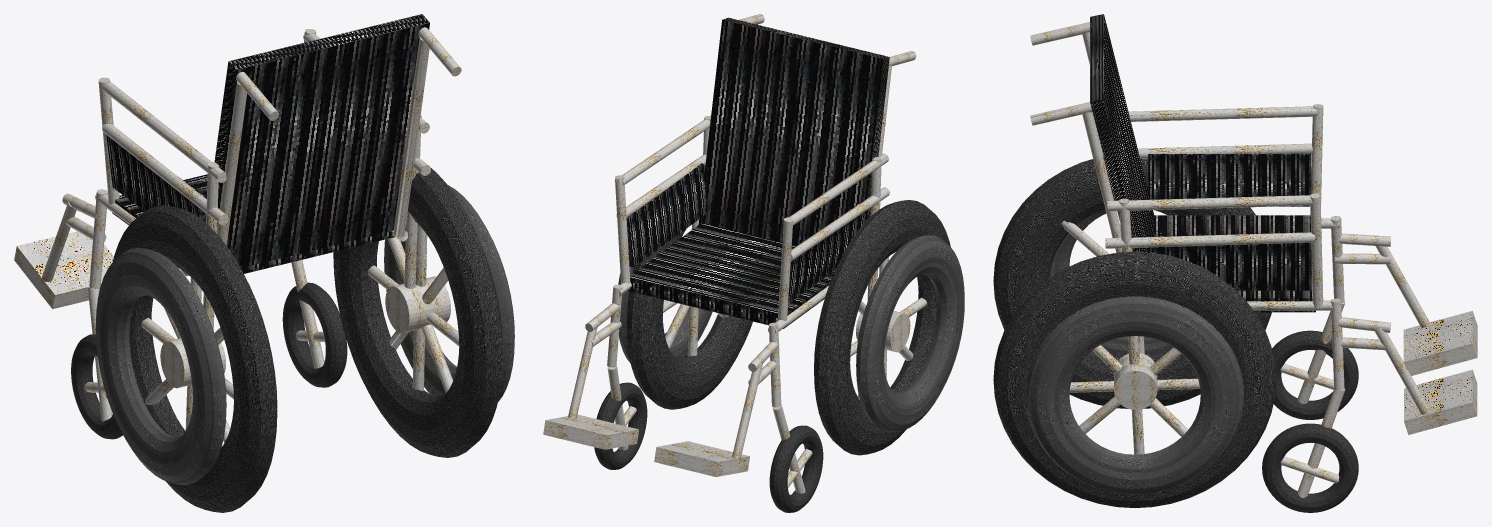
The model's file is clean_med_chear .glb.
The picture shows the model from 3 angles, left to right: view 1: azimuth 30°, elevation 25°; view 2: azimuth 150°, elevation 25°; view 3: azimuth 270°, elevation 25°; orthographic projection. The views are drawn at different scales.
Visible parts, largest first — view 1: Куб.004; view 2: Куб.004; view 3: Куб.004.
Boxes of the visible parts, bbox=[...] form: Куб.004: bbox=[14, 14, 514, 512]; Куб.004: bbox=[543, 14, 964, 512]; Куб.004: bbox=[993, 14, 1477, 512].
Bounding box in the file's own units: 4.76 × 6.63 × 7.09.
Materials: 11 (11 with a texture image).
